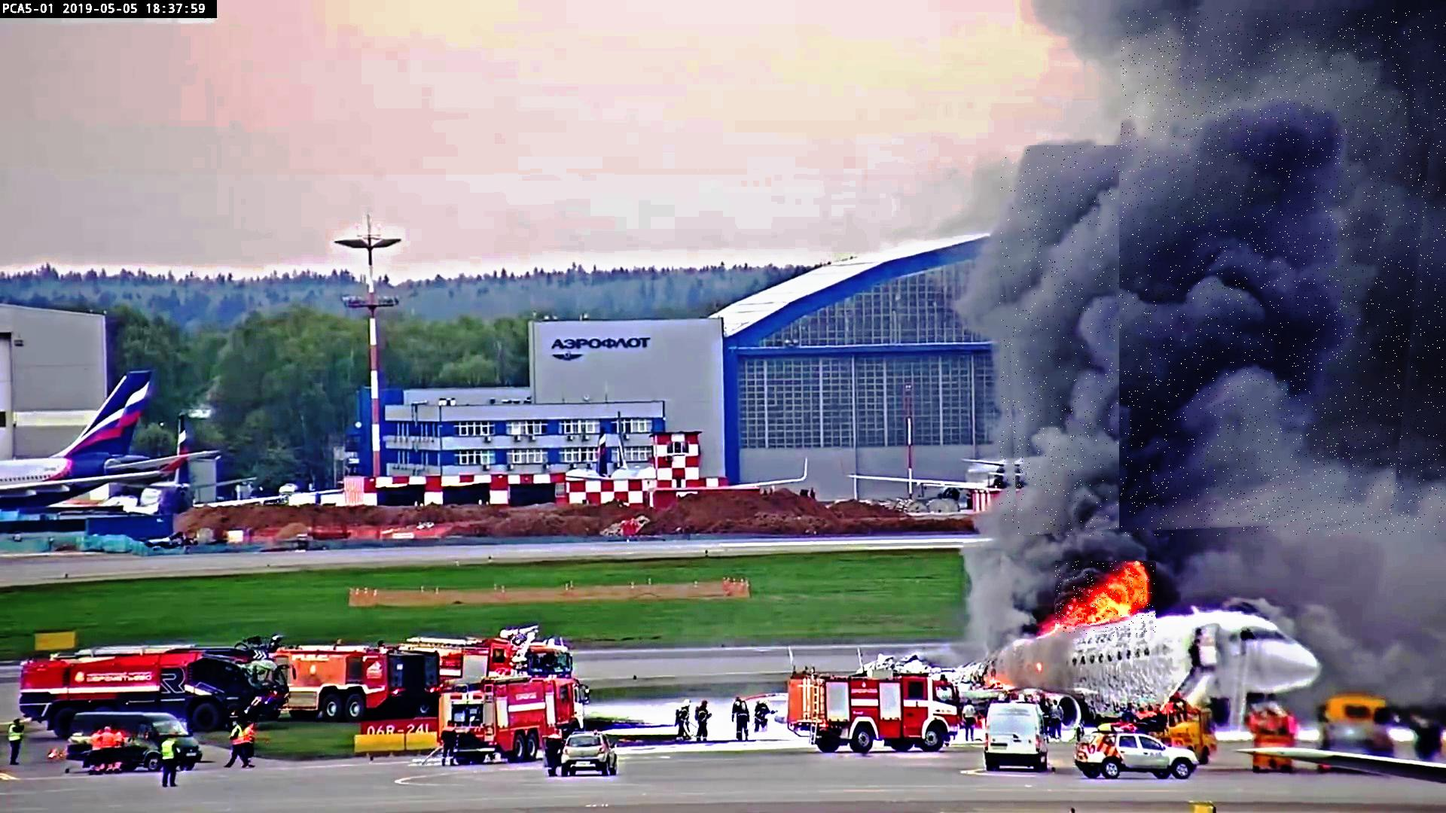fire: (1055, 561, 1156, 637)
smoke: (1121, 10, 1446, 535), (1000, 145, 1344, 536)
